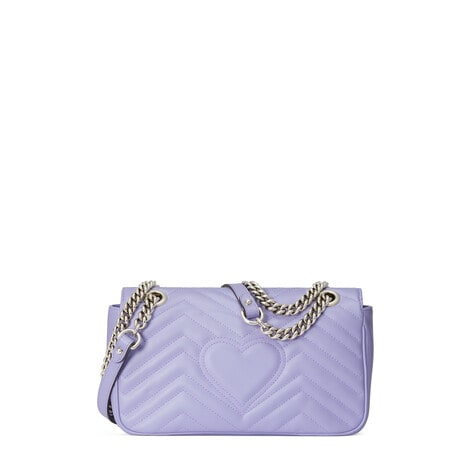Gucci: (88, 258, 400, 446), (147, 324, 341, 418)
